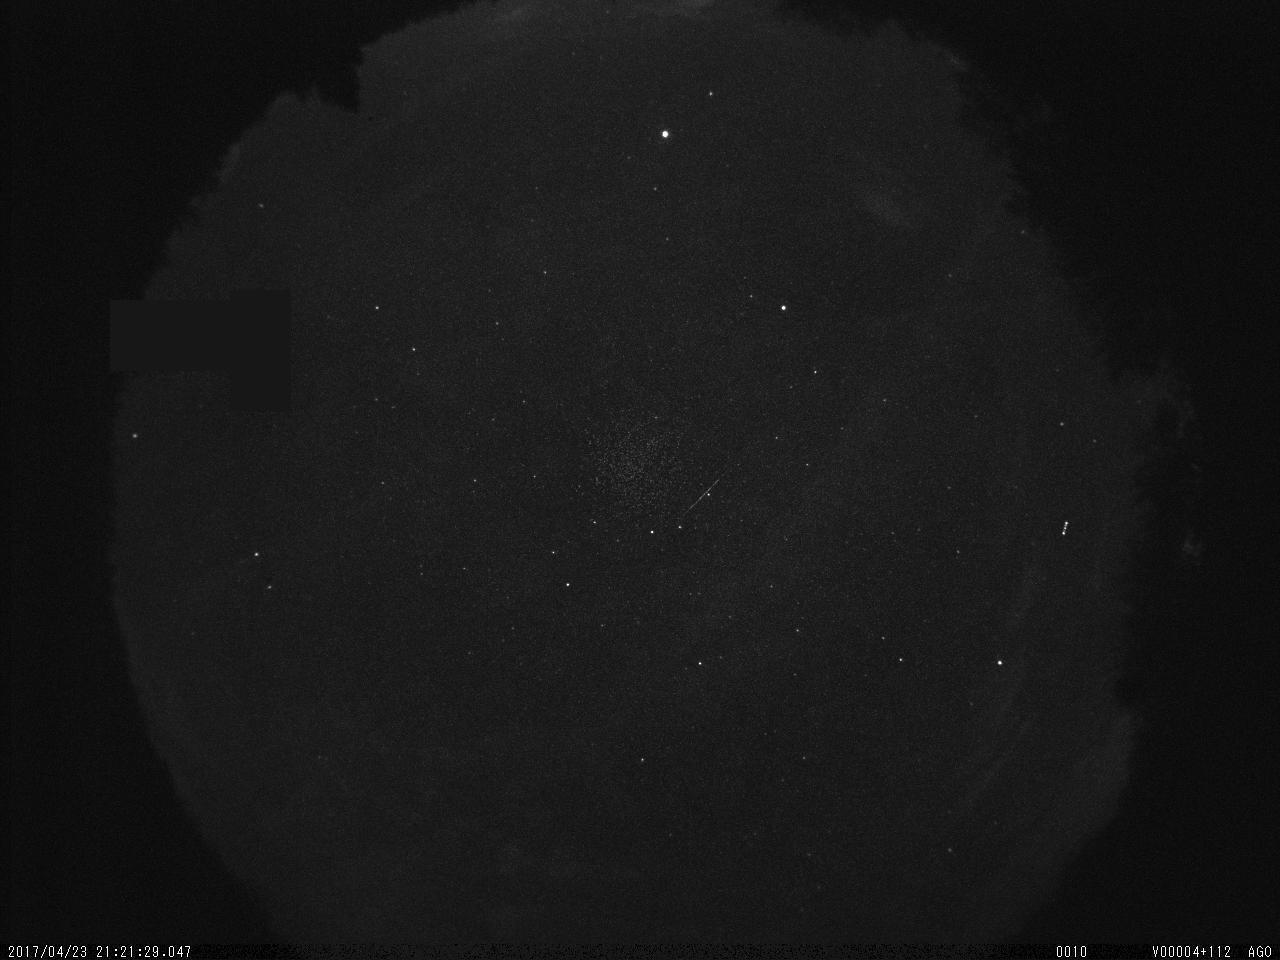Meteor: (680, 459, 738, 520)
